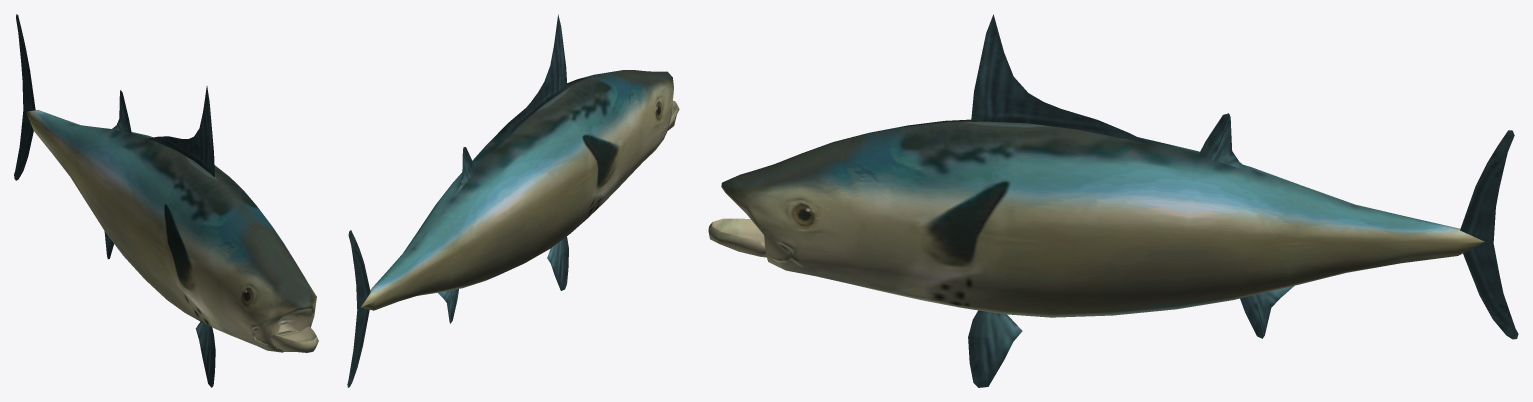
The model's file is sardine.obj.
3 views of the same model, side by side, from view 1: azimuth 30°, elevation 25°; view 2: azimuth 150°, elevation 25°; view 3: azimuth 270°, elevation 25° (orthographic). The views are drawn at different scales.
Visible parts, largest first — view 1: mesh0004; view 2: mesh0004; view 3: mesh0004.
Part boxes in pixels (x1,y1,x2,y2): mesh0004: [14, 14, 318, 387]; mesh0004: [347, 14, 679, 387]; mesh0004: [708, 14, 1518, 387].
Bounding box in the file's own units: 0.845 × 2.94 × 5.76.
Materials: 1 (1 with a texture image).
